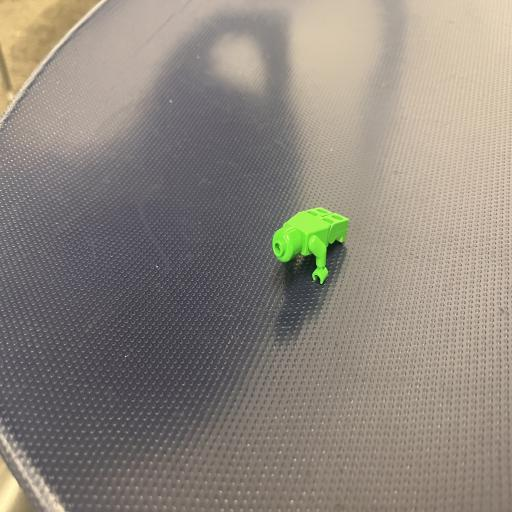Lego-Minifig: (272, 208, 349, 284)
